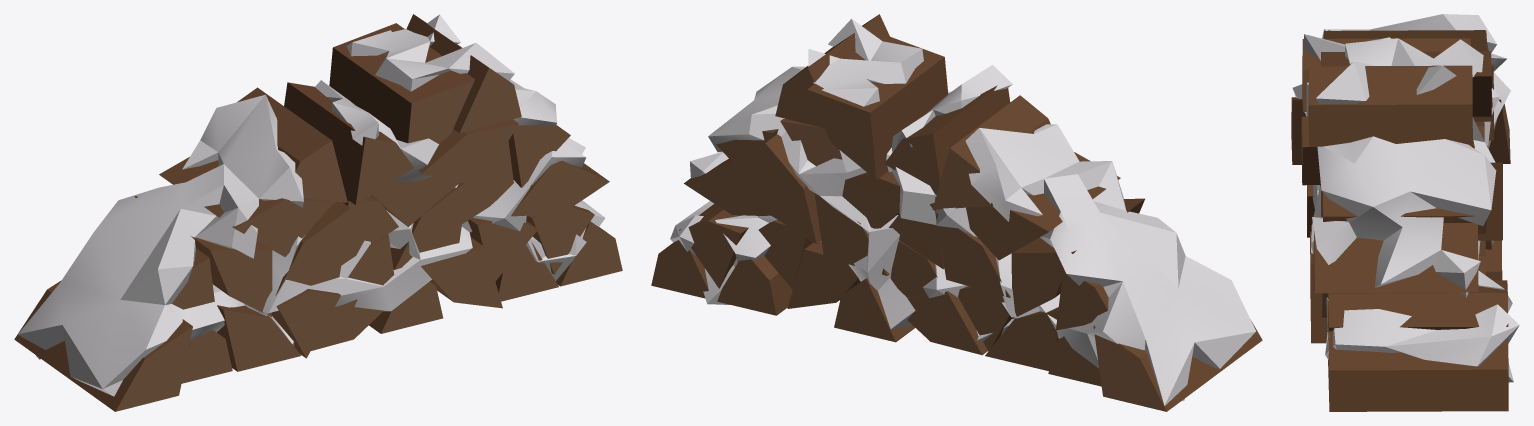
Rendered from WoodFireSnowy_1.fbx.
3 views of the same model, side by side, from view 1: azimuth 30°, elevation 25°; view 2: azimuth 150°, elevation 25°; view 3: azimuth 270°, elevation 25° (orthographic). The views are drawn at different scales.
Visible parts, largest first — view 1: WoodFireSnowy_1; view 2: WoodFireSnowy_1; view 3: WoodFireSnowy_1.
Boxes of the visible parts, x1,y1,x2,y2 form: WoodFireSnowy_1: (14,14,622,411); WoodFireSnowy_1: (651,14,1262,411); WoodFireSnowy_1: (1291,14,1519,411).
Bounding box in the file's own units: 176 × 84.6 × 59.98.
